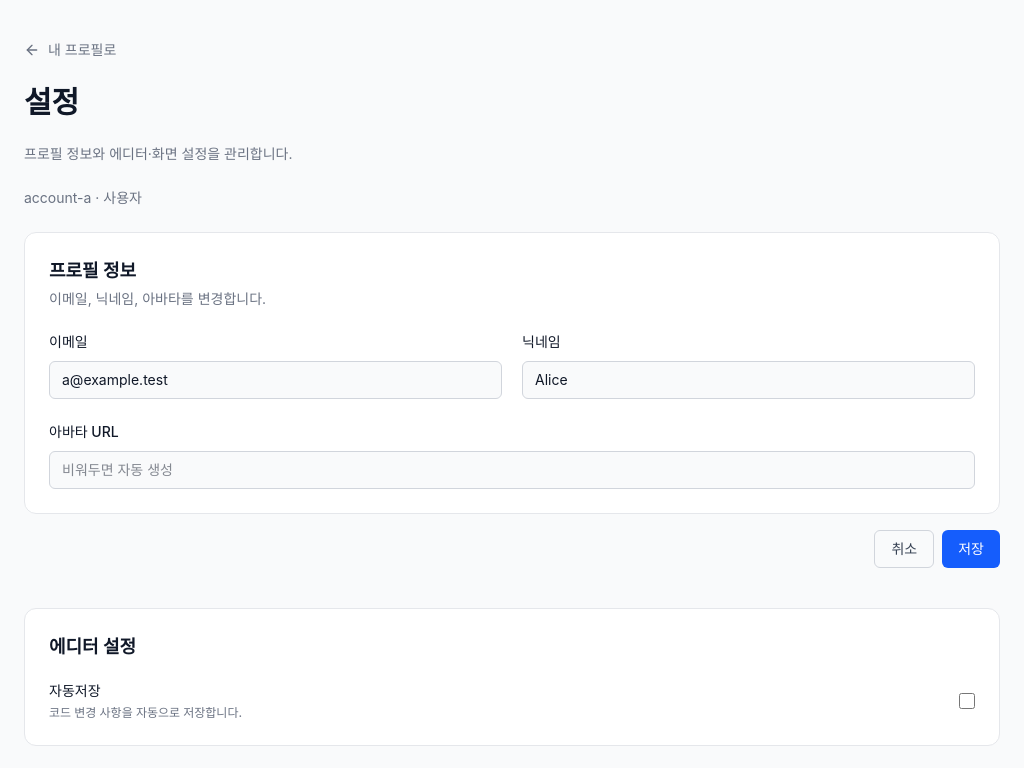
Scenario: settings profile editor › cancels draft edits without leaving the page or writing
Replace the text in the field labelled "닉네임" with "Draft" at [748, 380], box x1=522 y1=361 x2=975 y2=399
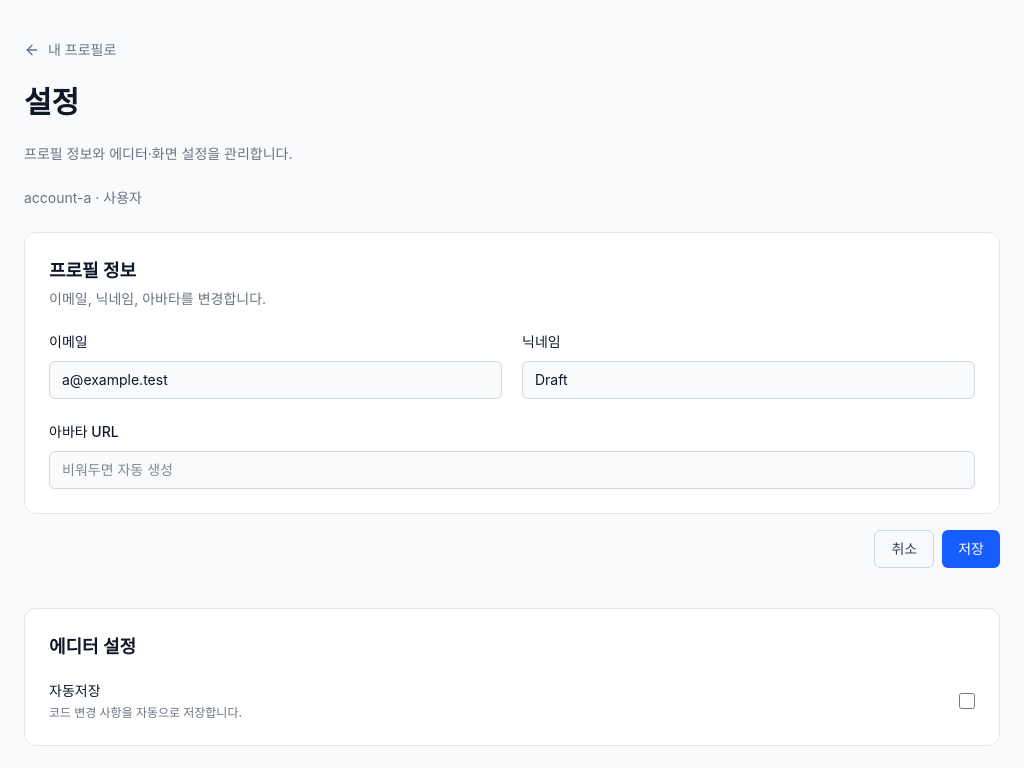
Click the button "취소" at [904, 549], box x1=874 y1=530 x2=934 y2=568
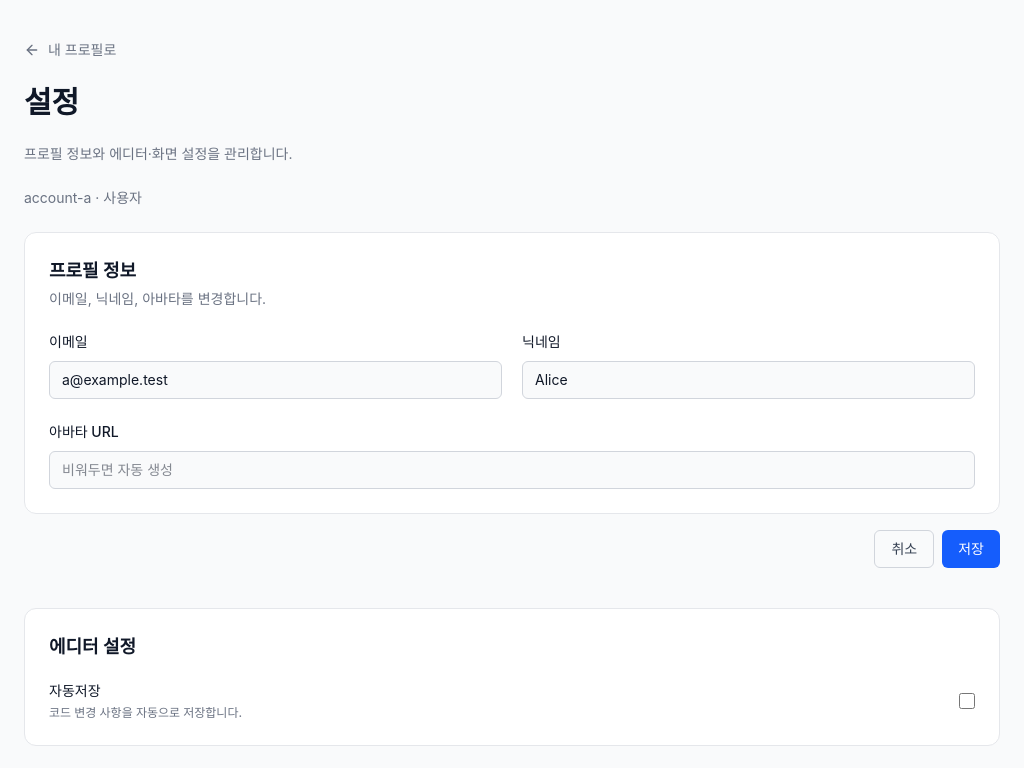
Result: the field labelled "닉네임" holds "Alice" at x1=522 y1=361 x2=975 y2=399
